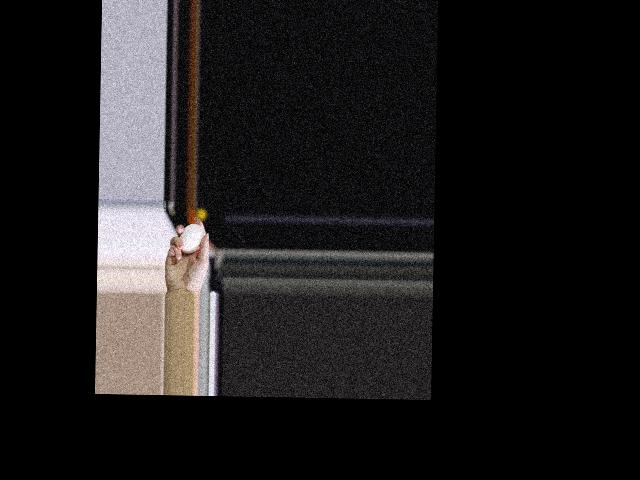egg: (179, 223, 203, 253)
